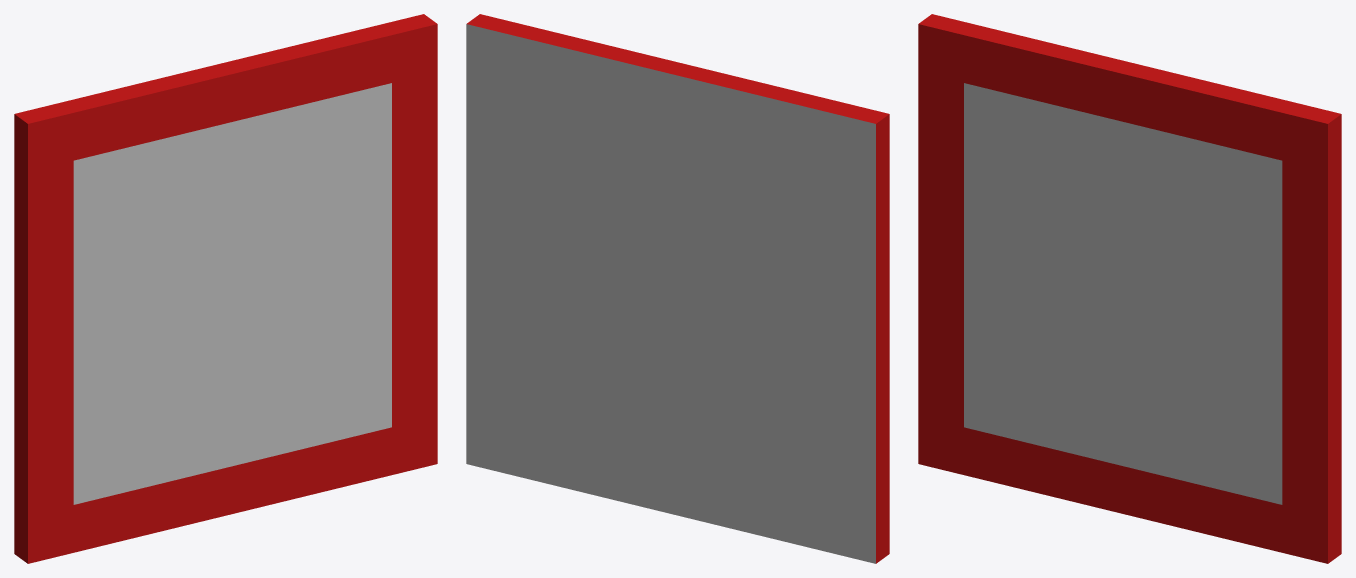
File: Cuadro 1.fbx
3 views of the same model, side by side, from view 1: azimuth 30°, elevation 25°; view 2: azimuth 150°, elevation 25°; view 3: azimuth 330°, elevation 25° (orthographic).
Parts seen in each view (by area): view 1: Mesh; view 2: Mesh; view 3: Mesh.
Part boxes in pixels (bbox=[...]): Mesh: bbox=[14, 14, 437, 563]; Mesh: bbox=[466, 14, 889, 563]; Mesh: bbox=[918, 14, 1341, 563].
Size of the model in its own units: 95 by 97.5 by 5.5.
